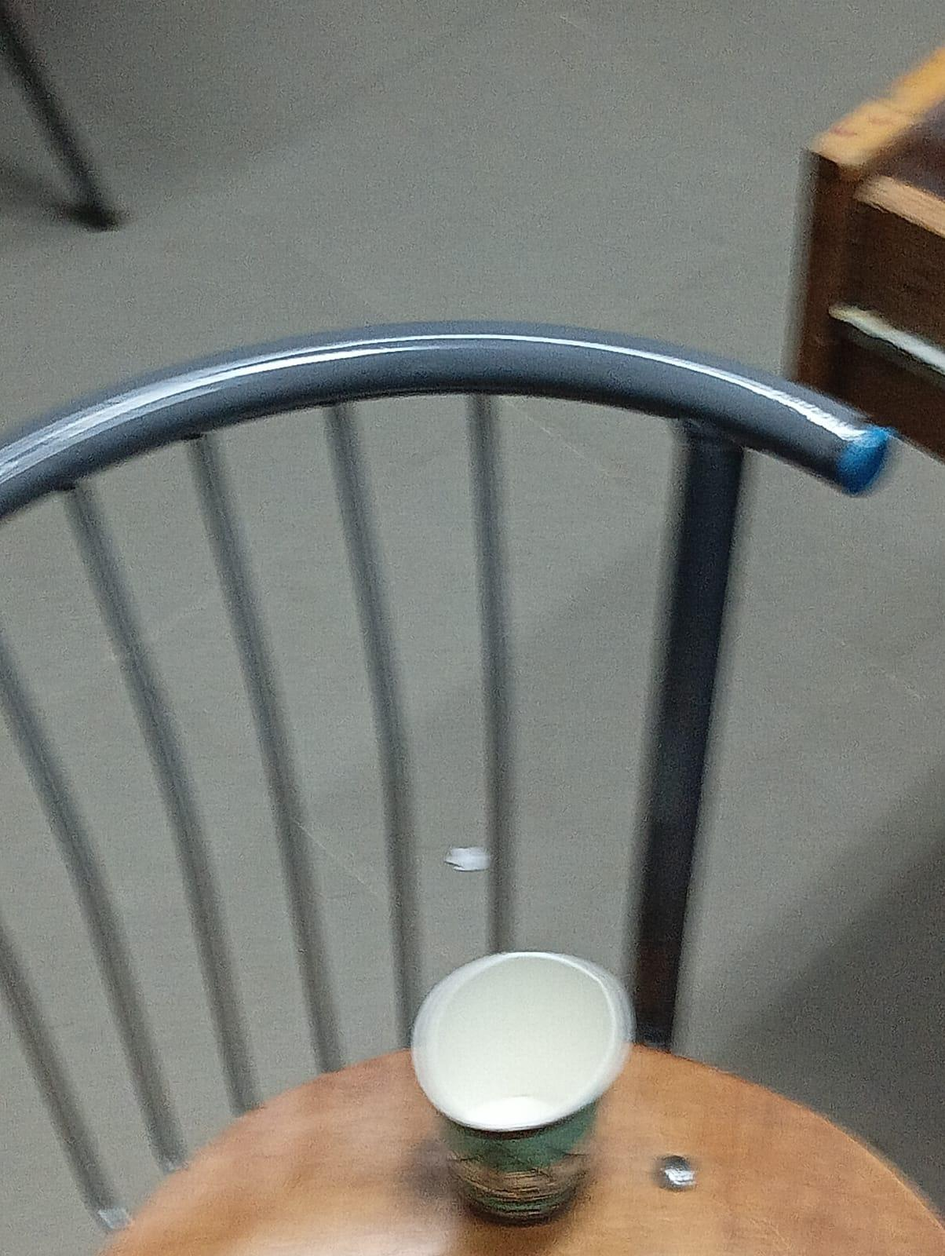cup: (411, 952, 633, 1223), (411, 951, 633, 1135)
